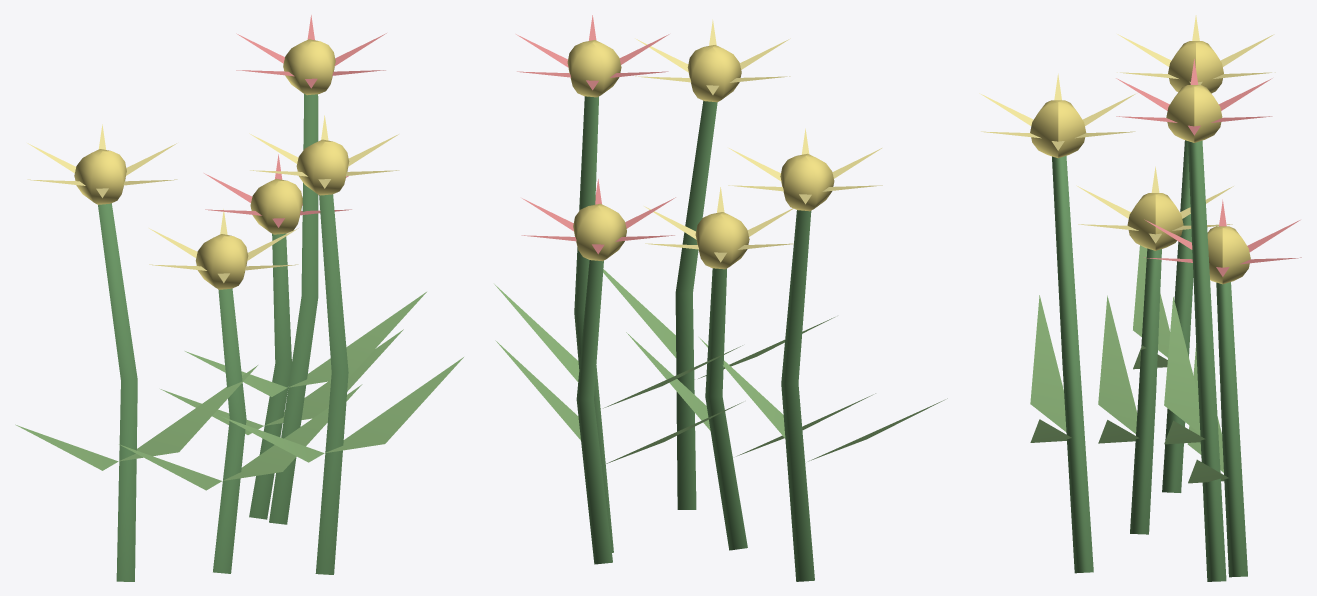
Rendered from blume_2.glb.
The picture shows the model from 3 angles, left to right: view 1: azimuth 30°, elevation 25°; view 2: azimuth 150°, elevation 25°; view 3: azimuth 270°, elevation 25°; orthographic projection. The views are drawn at different scales.
Visible parts, largest first — view 1: G_blume_2; view 2: G_blume_2; view 3: G_blume_2.
Boxes of the visible parts, x1,y1,x2,y2 form: G_blume_2: [15, 15, 463, 581]; G_blume_2: [494, 15, 947, 581]; G_blume_2: [979, 15, 1301, 581].
Bounding box in the file's own units: 0.5606 × 0.6035 × 0.3517.
